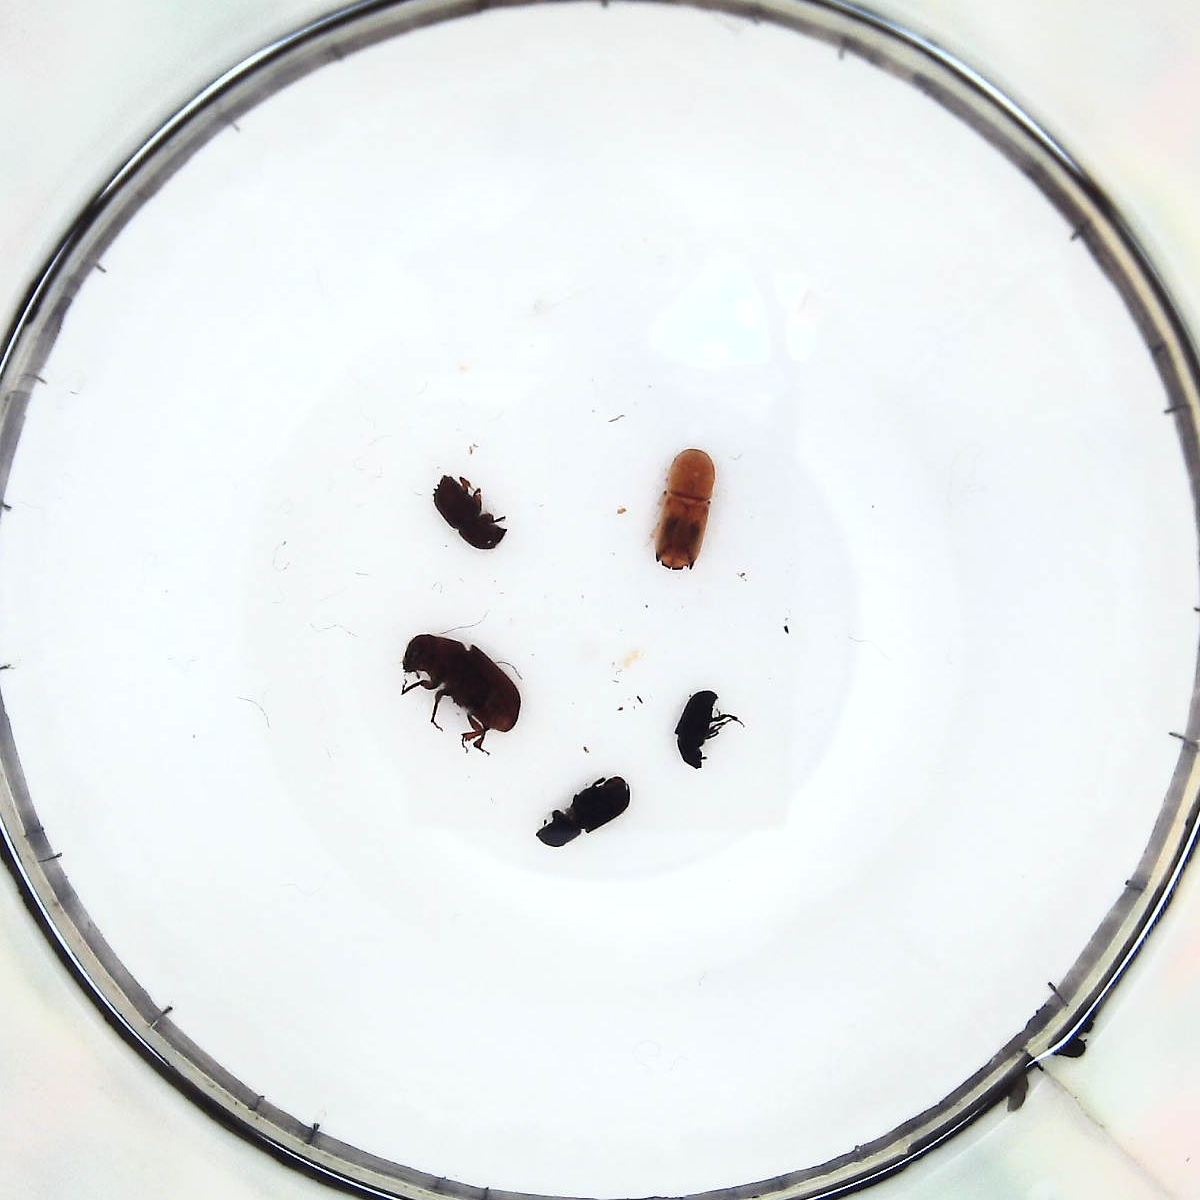Boerner: (654, 451, 713, 577)
Leconte: (404, 632, 525, 753)
Linnaeus: (431, 473, 505, 551)
armandi: (534, 774, 631, 847)
coleoptera: (673, 686, 730, 766)
